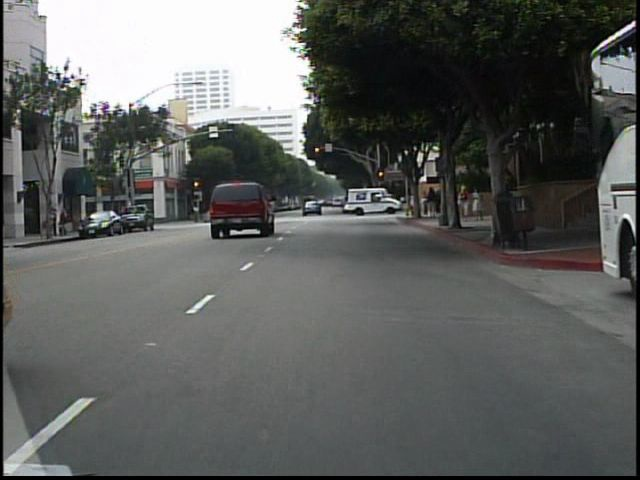person: (471, 181, 485, 223), (457, 183, 470, 222)
